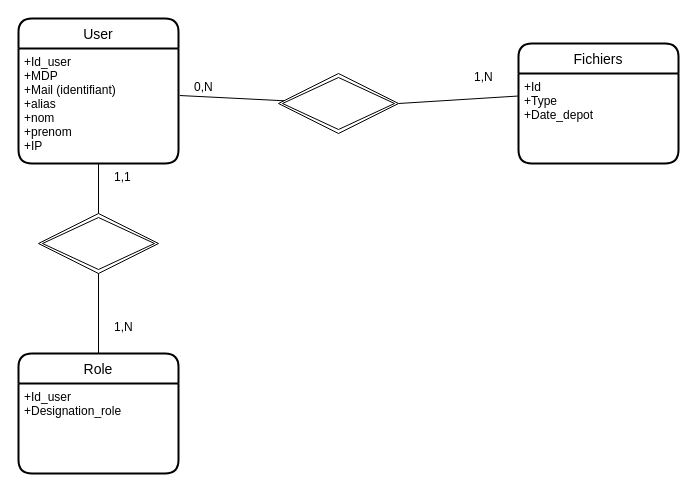
Some shapes in this 696 by 491 pixel diagram are drawn without their labels. The shapes that lost their labels are listed below. From the top down, each one's centre as x and y in pixels, then its label:
[338,103]: Utiliser
[98,243]: définir
